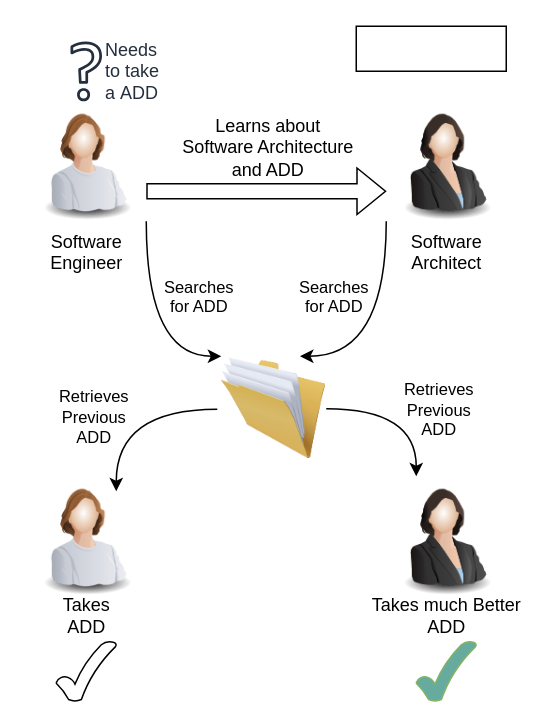
This 546x728 diagram has some shape labels left out. Here are the shapes that lost their labels. From the top down, the centre of each, then its label:
At point (430, 48): "ADD = Architecture Design Decision".
At point (273, 408): "Previous Design Decisions".
